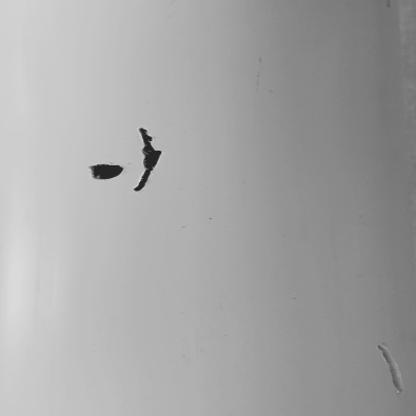kongdong: (134, 127, 165, 194), (88, 163, 125, 180)
sunshang: (376, 342, 405, 394)
